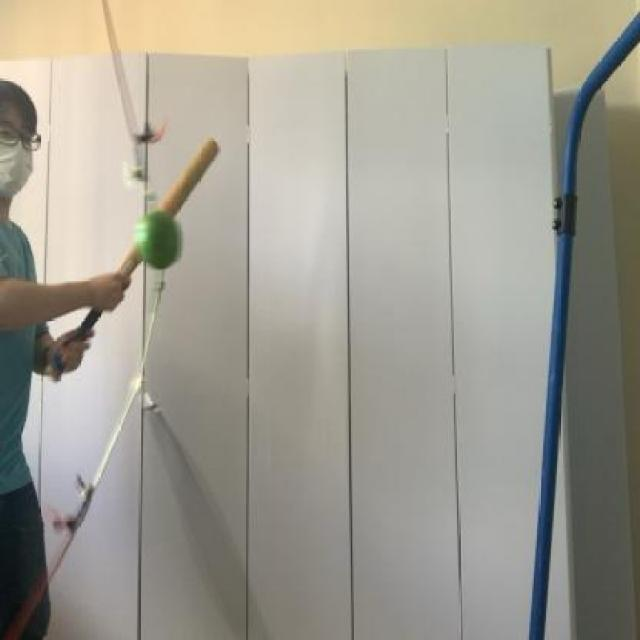baseball: (131, 200, 192, 282)
